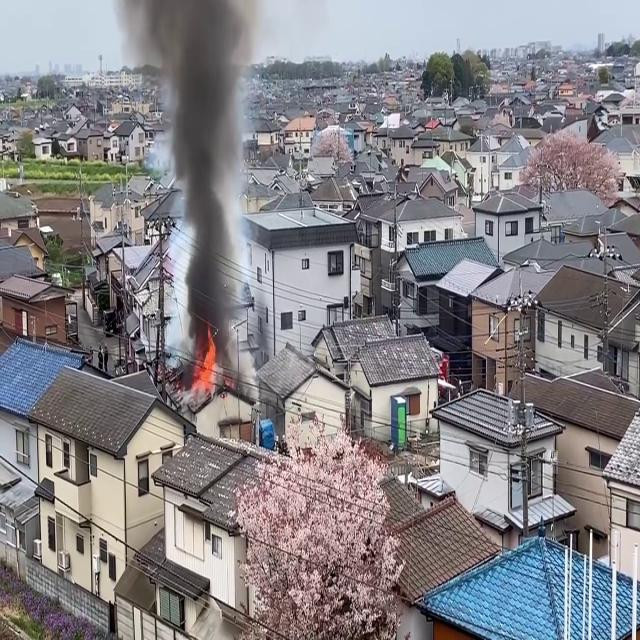Fire: (190, 329, 220, 396)
Smoke: (156, 0, 256, 375)
